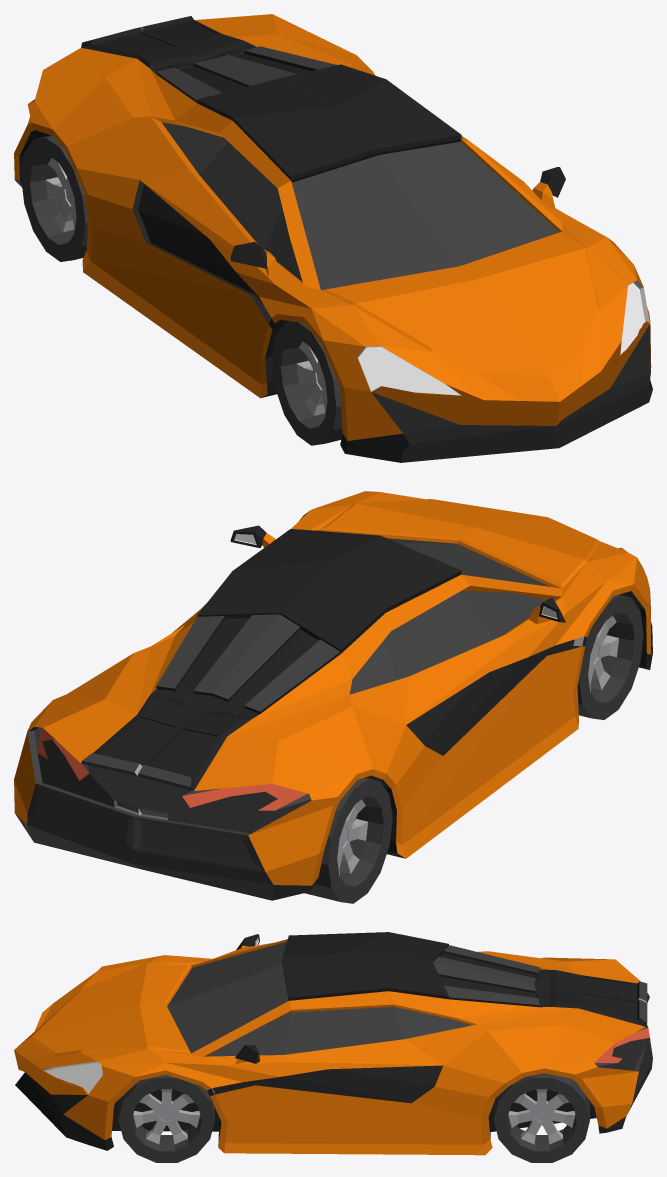
The model's file is mclaren570s.fbx.
3 renders of one model, top to bottom at view 1: azimuth 30°, elevation 25°; view 2: azimuth 150°, elevation 25°; view 3: azimuth 270°, elevation 25°, orthographic. The views are drawn at different scales.
Visible parts, largest first — view 1: Vert.002, FrontRight, BackRight; view 2: Vert.002, BackRight, FrontRight; view 3: Vert.002, BackLeft, FrontLeft.
Part boxes in pixels (left/top/right/bottom): Vert.002: left=14, top=14, right=652, bottom=462; FrontRight: left=272, top=321, right=342, bottom=445; BackRight: left=21, top=135, right=88, bottom=261; Vert.002: left=14, top=491, right=652, bottom=900; BackRight: left=304, top=777, right=392, bottom=903; FrontRight: left=577, top=594, right=643, bottom=719; Vert.002: left=14, top=932, right=652, bottom=1155; BackLeft: left=494, top=1073, right=589, bottom=1162; FrontLeft: left=118, top=1075, right=214, bottom=1162.
Size of the model in its own units: 2.04 by 4.49 by 1.2.
